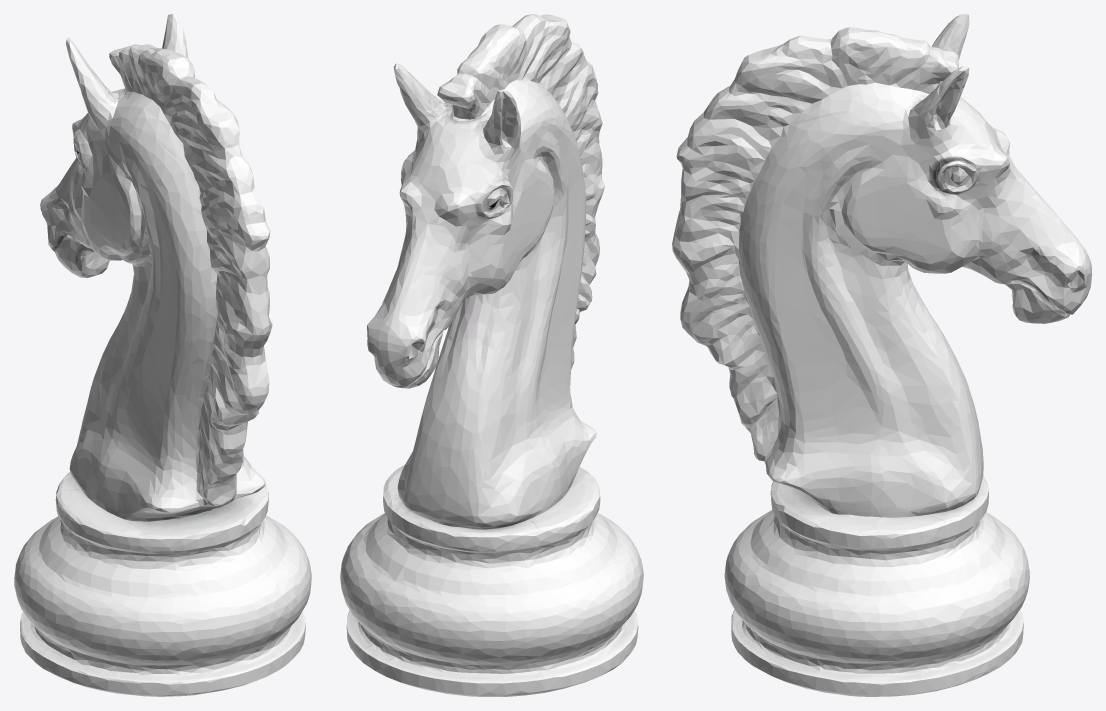
Rendered from Faz_me_uma_peça_de_x_0708150035_texture.fbx.
3 renders of one model, left to right at view 1: azimuth 30°, elevation 25°; view 2: azimuth 150°, elevation 25°; view 3: azimuth 270°, elevation 25°, orthographic. The views are drawn at different scales.
Visible parts, largest first — view 1: temp; view 2: temp; view 3: temp.
Boxes of the visible parts, x1,y1,x2,y2 form: temp: (14,14,311,696); temp: (340,14,643,696); temp: (672,14,1091,696).
Size of the model in its own units: 91.2 by 200 by 125.
Materials: 1 (1 with a texture image).
